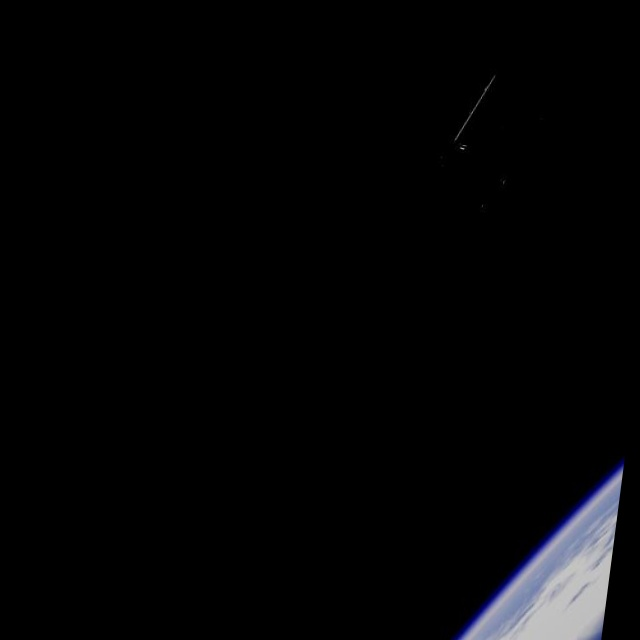satellite: (425, 67, 550, 215)
